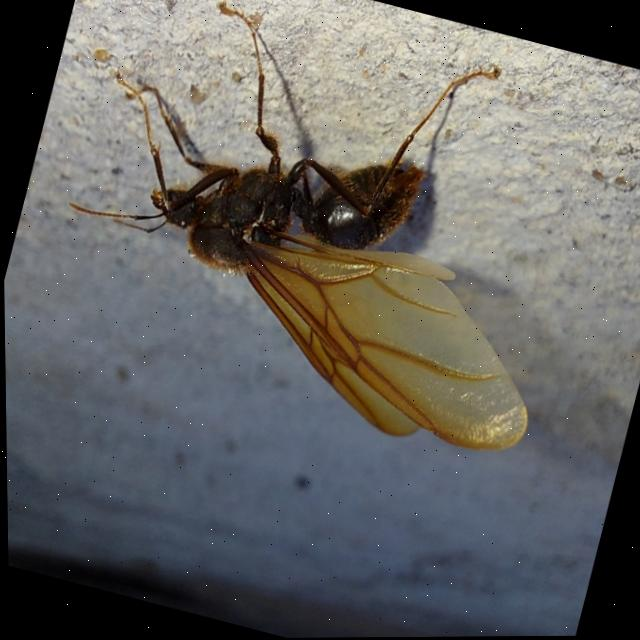Alive-Male-Alate: (27, 0, 614, 472)
